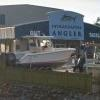Boat: (14, 40, 82, 77)
